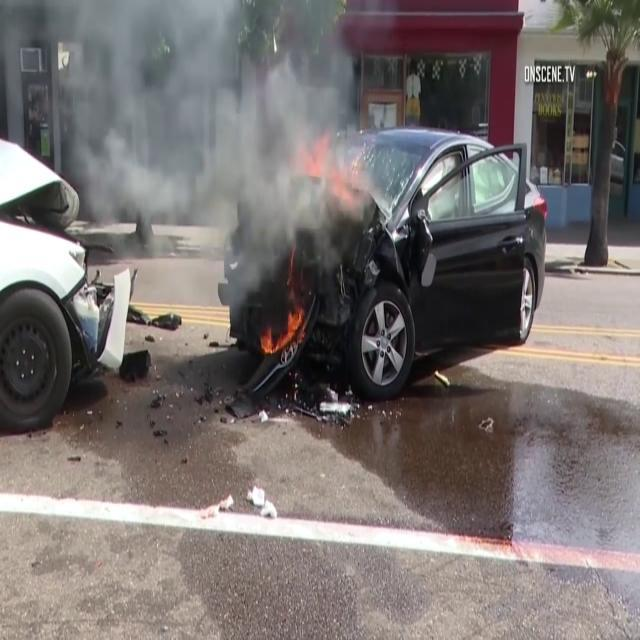Fire: (259, 299, 308, 357)
Smoke: (54, 0, 390, 250)
